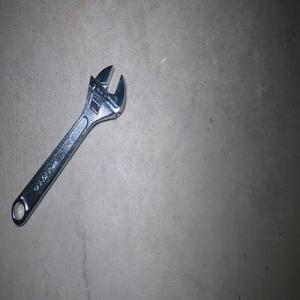Wrench: (11, 64, 125, 226)
